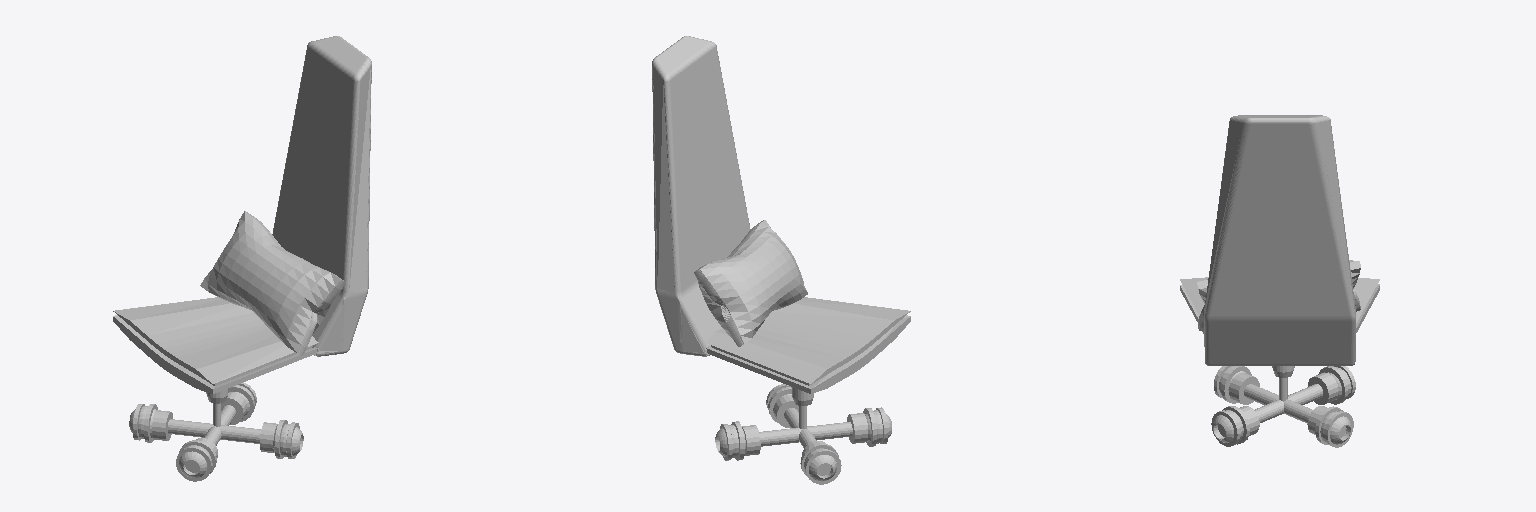
The model's file is Rover Chair.obj.
3 renders of one model, left to right at view 1: azimuth 30°, elevation 25°; view 2: azimuth 150°, elevation 25°; view 3: azimuth 270°, elevation 25°, orthographic.
Visible parts, largest first — view 1: pCube4, pCube3, pCube2, polySurface4, polySurface5; view 2: pCube4, pCube3, pCube2, polySurface5, polySurface4; view 3: pCube4, polySurface4, polySurface5, pCube3, pCube2.
Part boxes in pixels (left/top/right/bottom): pCube4: left=272, top=36, right=371, bottom=356; pCube3: left=113, top=297, right=318, bottom=393; pCube2: left=200, top=211, right=345, bottom=355; polySurface4: left=129, top=404, right=303, bottom=458; polySurface5: left=176, top=382, right=256, bottom=481; pCube4: left=652, top=36, right=750, bottom=356; pCube3: left=705, top=297, right=910, bottom=393; pCube2: left=694, top=220, right=807, bottom=346; polySurface5: left=715, top=407, right=891, bottom=460; polySurface4: left=766, top=384, right=841, bottom=484; pCube4: left=1204, top=115, right=1355, bottom=365; polySurface4: left=1211, top=366, right=1355, bottom=446; polySurface5: left=1214, top=366, right=1353, bottom=447; pCube3: left=1180, top=277, right=1379, bottom=333; pCube2: left=1197, top=260, right=1360, bottom=330.
Size of the model in its own units: 10 by 17.66 by 8.67.